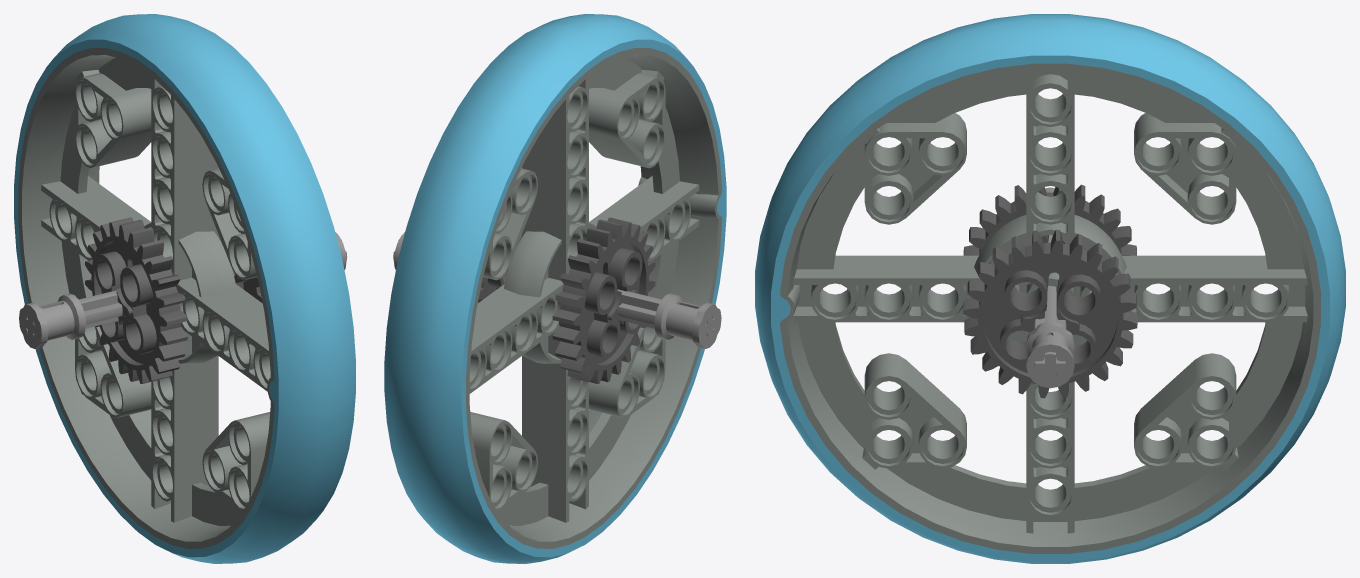
The model's file is Rear_wheel.obj.
3 views of the same model, side by side, from view 1: azimuth 30°, elevation 25°; view 2: azimuth 150°, elevation 25°; view 3: azimuth 270°, elevation 25° (orthographic). The views are drawn at different scales.
Parts seen in each view (by area): view 1: Piece005, Piece002, Piece004, Piece000; view 2: Piece005, Piece002, Piece004, Piece000; view 3: Piece005, Piece001, Piece002, Piece003, Piece000.
Boxes of the visible parts, x1=… form: Piece005: x1=14, y1=14, x2=355, y2=563; Piece002: x1=85, y1=217, x2=187, y2=383; Piece004: x1=19, y1=293, x2=85, y2=348; Piece000: x1=22, y1=239, x2=347, y2=341; Piece005: x1=384, y1=14, x2=726, y2=563; Piece002: x1=552, y1=217, x2=655, y2=383; Piece004: x1=654, y1=293, x2=721, y2=348; Piece000: x1=393, y1=240, x2=717, y2=341; Piece005: x1=755, y1=14, x2=1345, y2=563; Piece001: x1=963, y1=229, x2=1137, y2=398; Piece002: x1=963, y1=184, x2=1136, y2=255; Piece003: x1=1026, y1=321, x2=1074, y2=388; Piece000: x1=1034, y1=234, x2=1066, y2=383.
Size of the model in its own units: 140 by 220 by 220.
